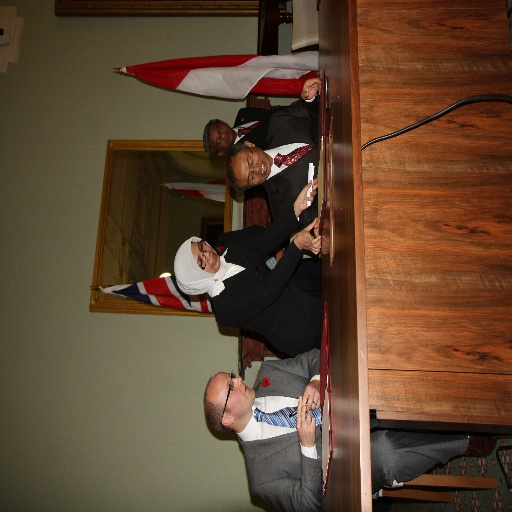hand: (294, 393, 315, 446), (296, 215, 322, 257), (295, 176, 319, 211), (299, 381, 321, 414), (300, 77, 321, 101)
